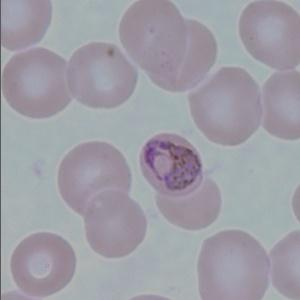Infected: (139, 132, 202, 196)
Uninfected: (119, 0, 188, 88), (189, 66, 264, 146), (0, 48, 77, 118), (58, 140, 130, 214), (146, 18, 217, 92), (197, 230, 270, 300), (68, 41, 138, 109), (83, 189, 146, 259), (239, 0, 300, 70), (12, 232, 75, 296), (154, 176, 222, 229)
